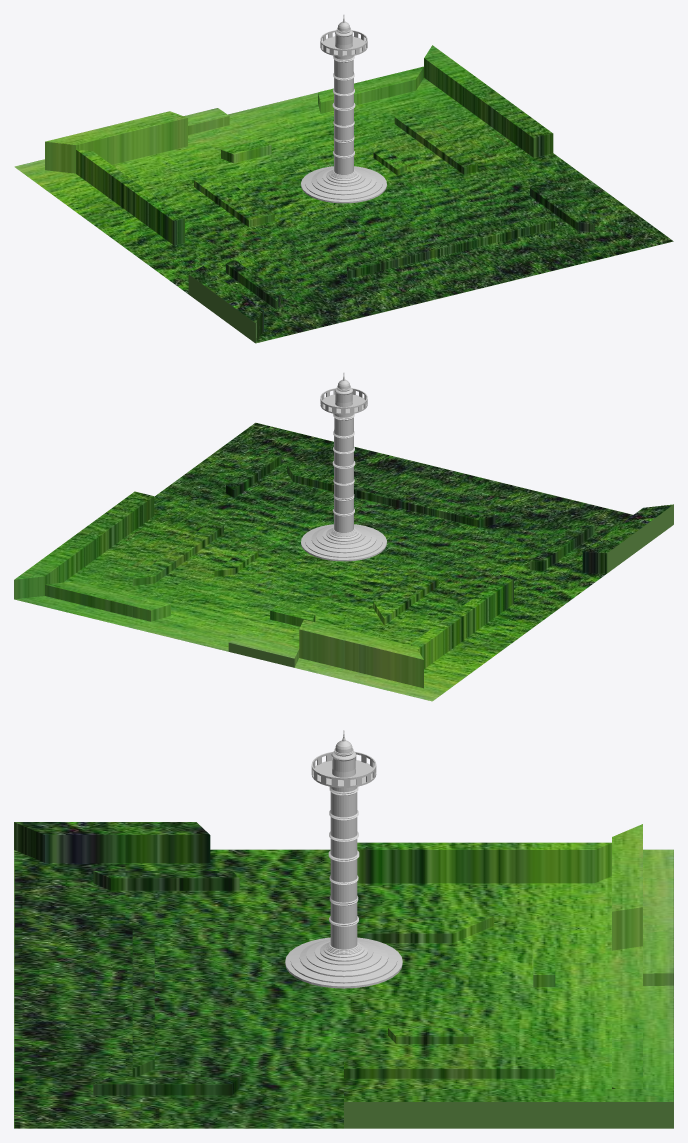
File: cgmodelsmall.obj
The picture shows the model from 3 angles, top to bottom: view 1: azimuth 30°, elevation 25°; view 2: azimuth 150°, elevation 25°; view 3: azimuth 270°, elevation 25°; orthographic projection. The views are drawn at different scales.
Visible parts, largest first — view 1: Plane, Circle; view 2: Plane, Circle; view 3: Plane, Circle.
Part boxes in pixels (<box>): Plane: <box>14,45,673,343</box>; Circle: <box>301,15,386,203</box>; Plane: <box>14,422,673,701</box>; Circle: <box>301,373,386,561</box>; Plane: <box>14,822,673,1128</box>; Circle: <box>285,730,402,988</box>.
Bounding box in the file's own units: 97.41 × 42.17 × 97.41.
2 materials, 2 textured.
